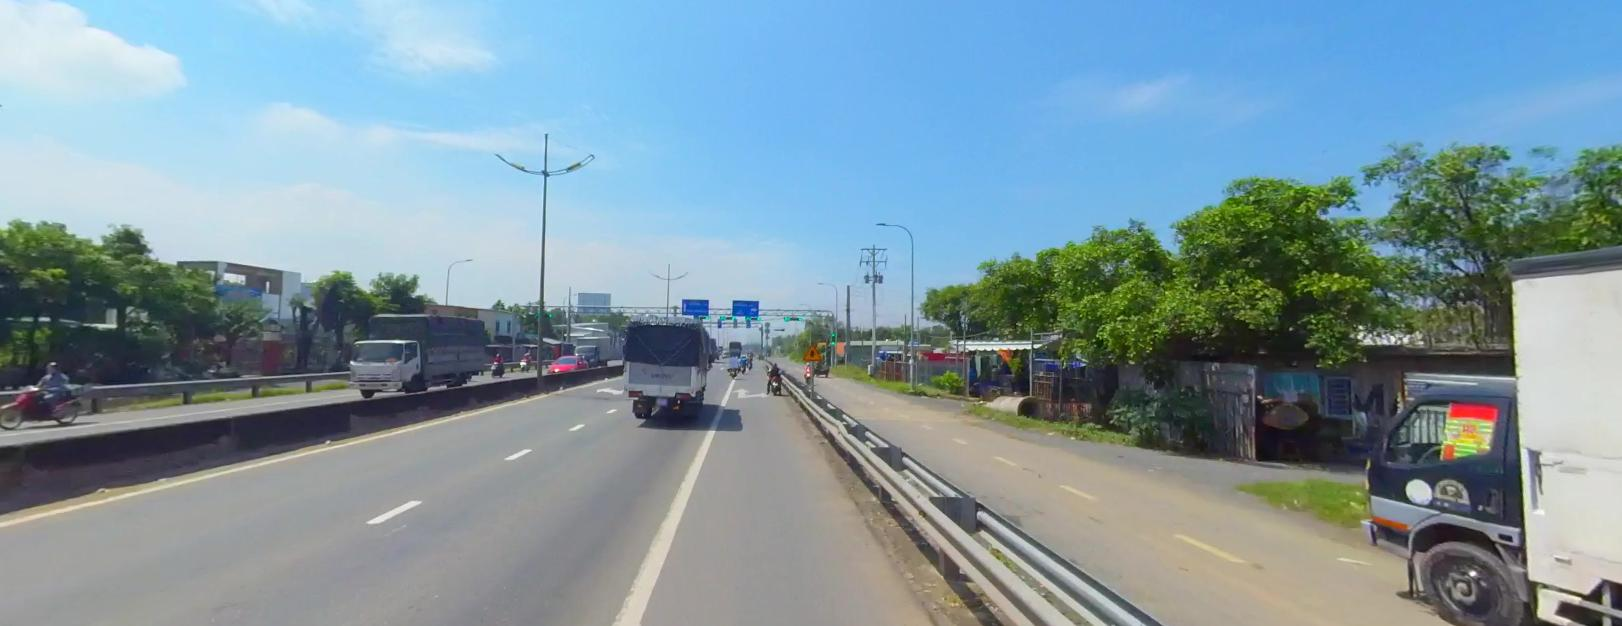Nguy hiem: (803, 342, 822, 360), (803, 344, 821, 359)
